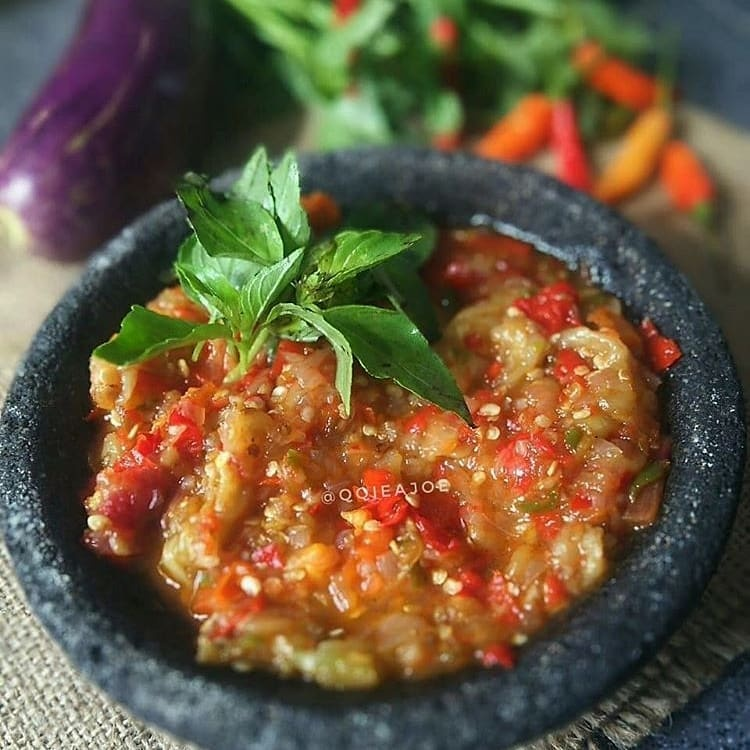sambal: (87, 228, 640, 685)
